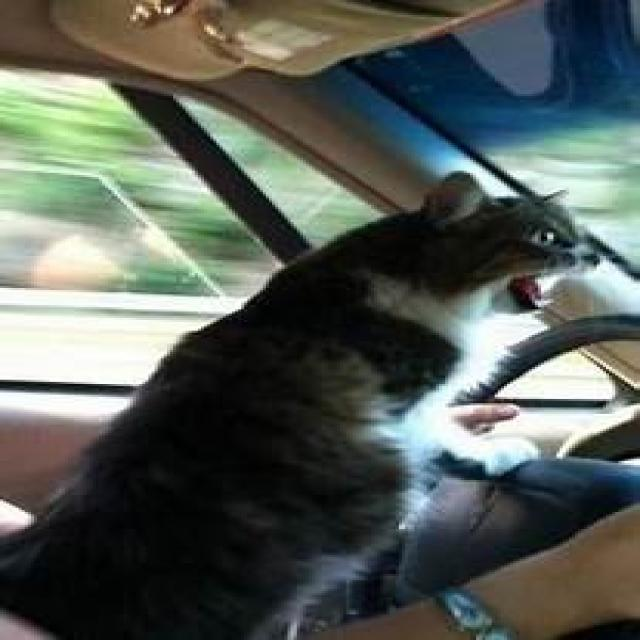animal: (0, 168, 600, 638)
